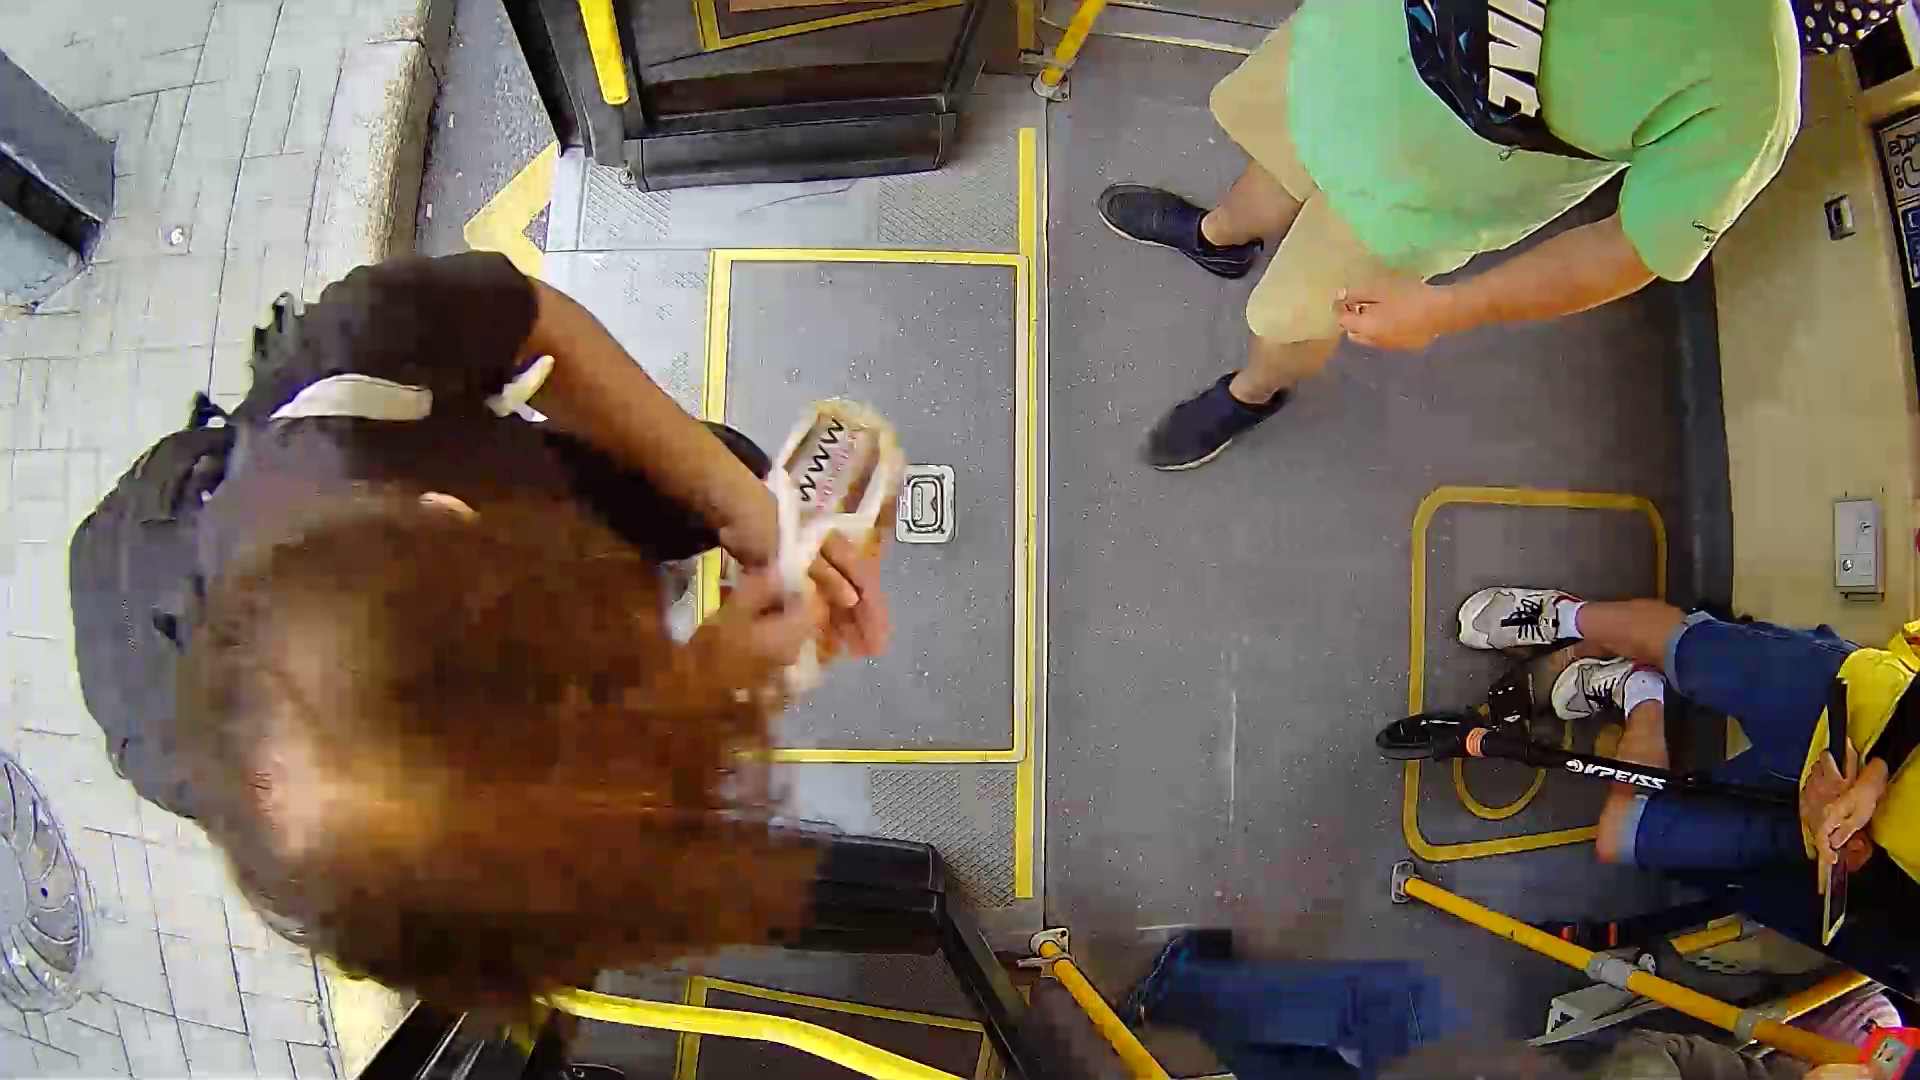person: (83, 251, 898, 1019)
